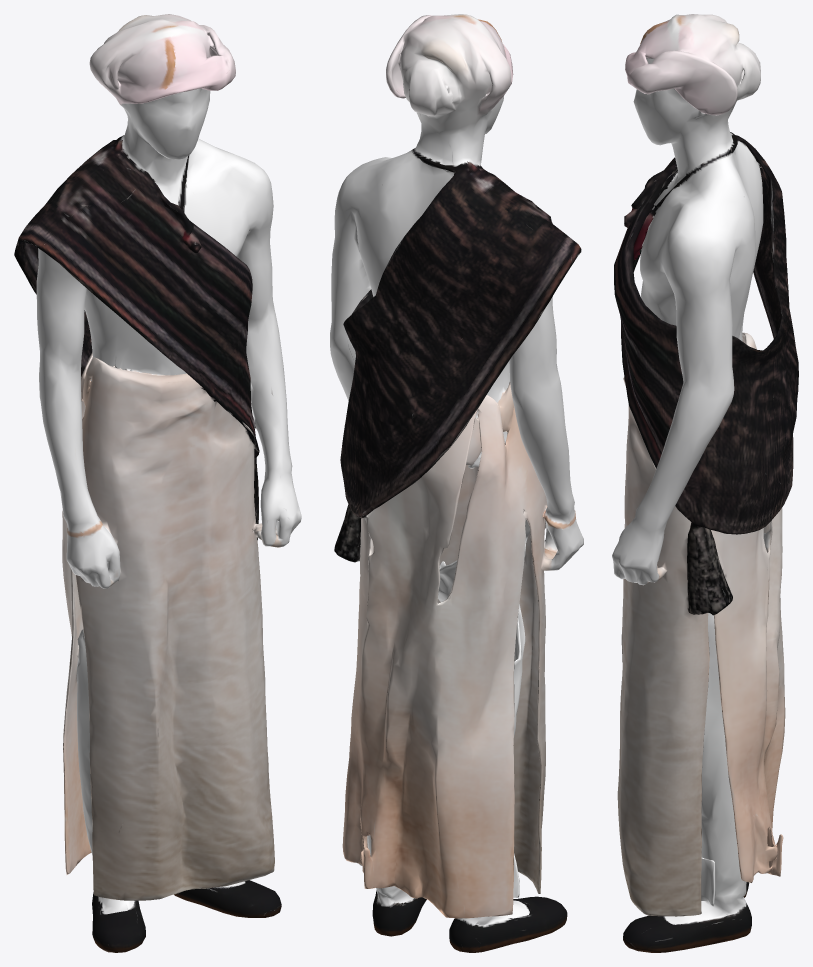
Rendered from Chu_ru_nam_00001.glb.
3 renders of one model, left to right at view 1: azimuth 30°, elevation 25°; view 2: azimuth 150°, elevation 25°; view 3: azimuth 270°, elevation 25°, orthographic.
Size of the model in its own units: 0.2503 by 0.8673 by 0.1645.
1 material, 1 textured.
